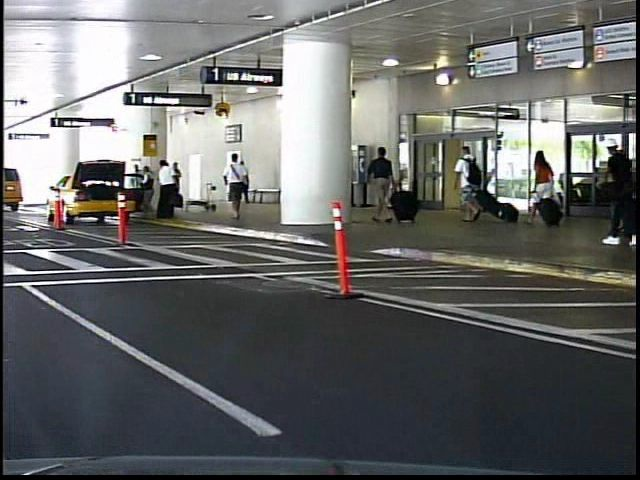person: (591, 137, 636, 249), (449, 140, 486, 226), (521, 143, 556, 229), (363, 142, 396, 227), (217, 147, 249, 220), (218, 162, 240, 210)
